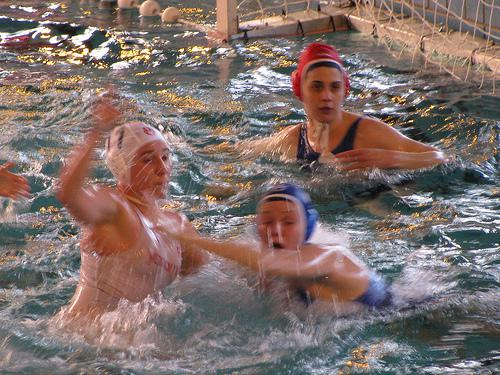human: (56, 119, 195, 328), (208, 184, 392, 318), (260, 39, 436, 178)
